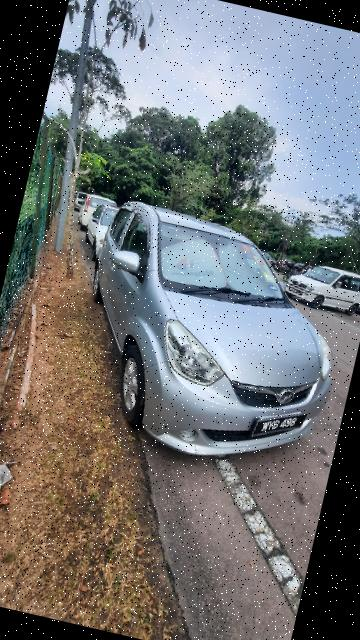License_Plate: (250, 404, 311, 454)
car: (59, 193, 360, 488)
